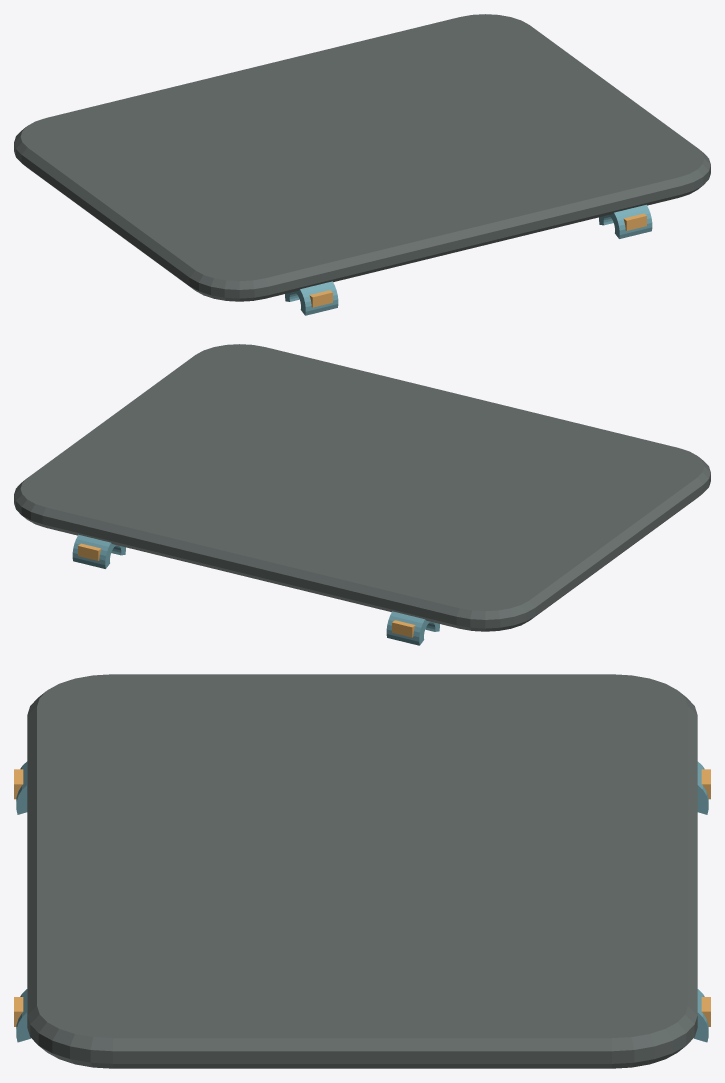
3 renders of one model, top to bottom at view 1: azimuth 30°, elevation 25°; view 2: azimuth 150°, elevation 25°; view 3: azimuth 270°, elevation 25°, orthographic. The views are drawn at different scales.
Visible parts, largest first — view 1: A01; view 2: A01; view 3: A01.
Part boxes in pixels (x1,y1,x2,y2): A01: [14, 14, 710, 315]; A01: [14, 344, 710, 645]; A01: [14, 674, 710, 1068].
Bounding box in the file's own units: 0.628 × 0.0478 × 0.497.
